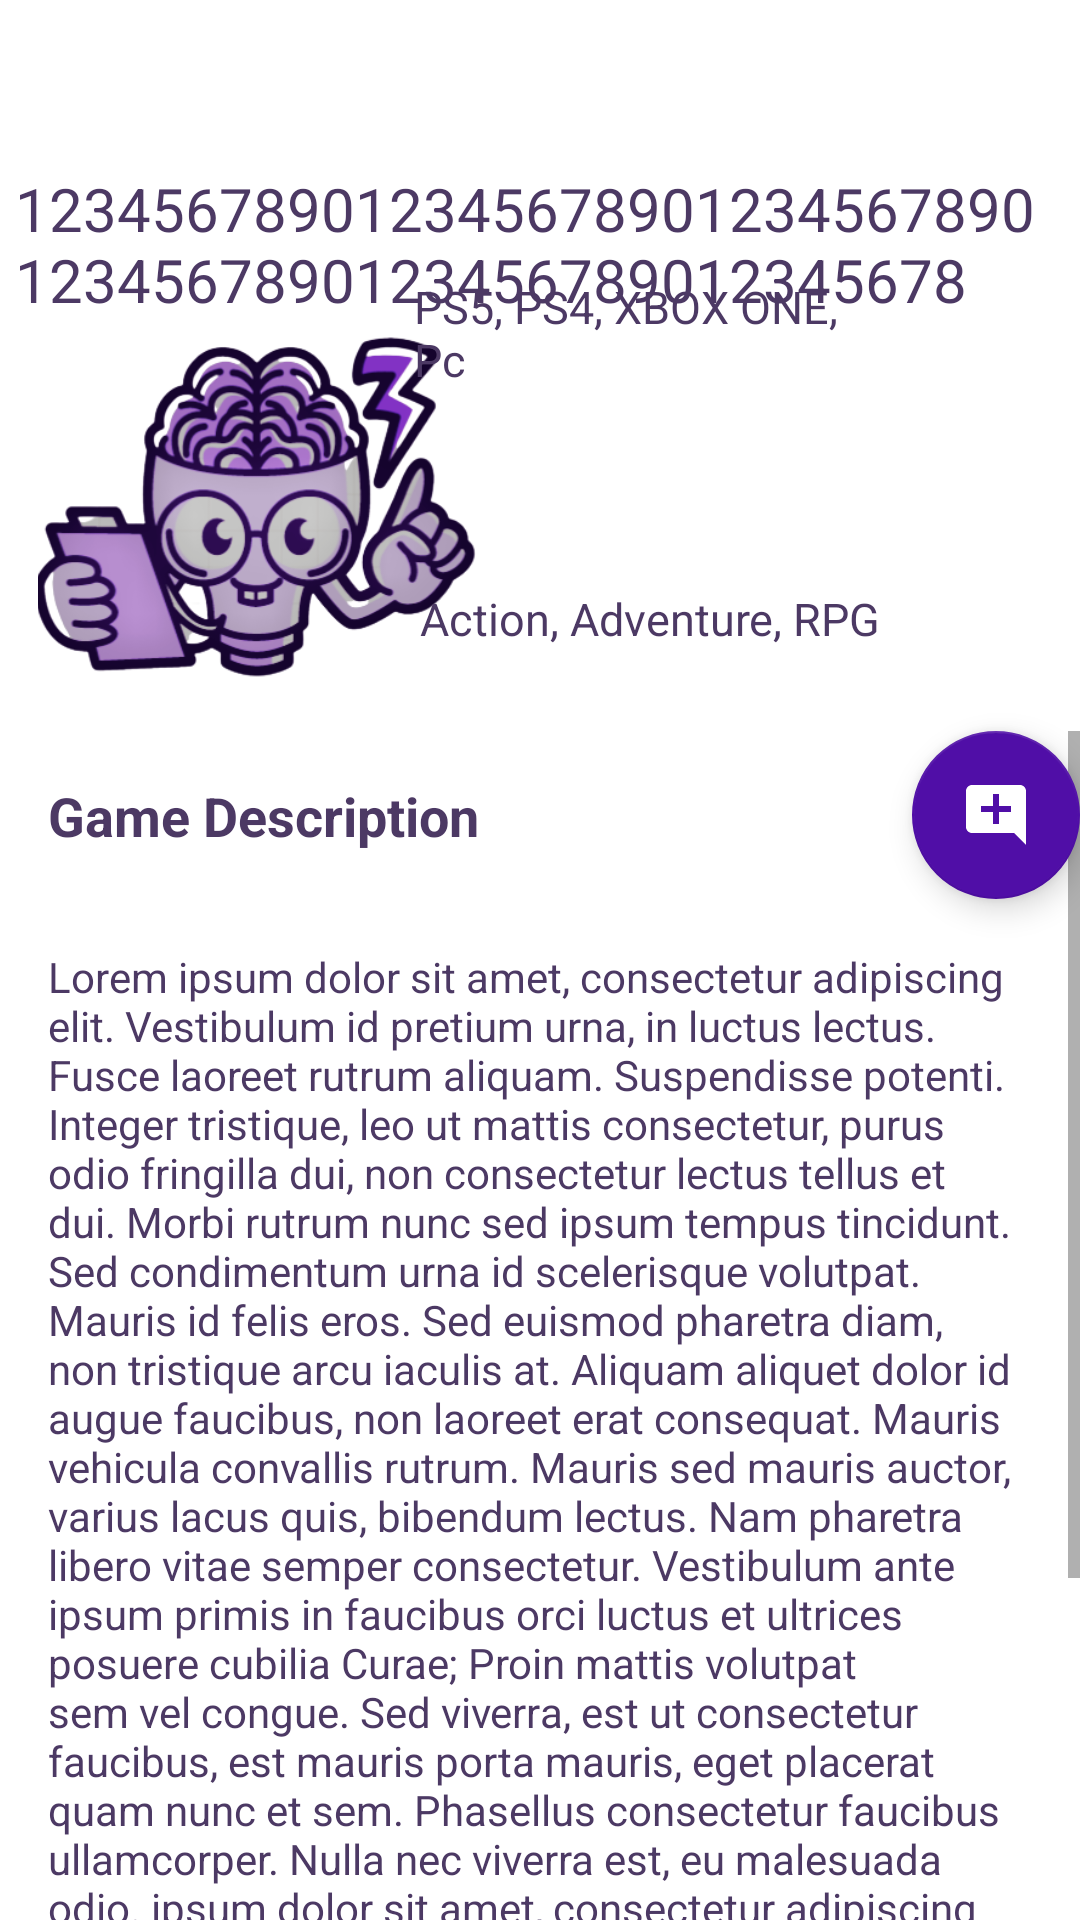

Named icons in this screenshot (1080x1920) and their centers, (x,y):
Add Comment: (996,815)
